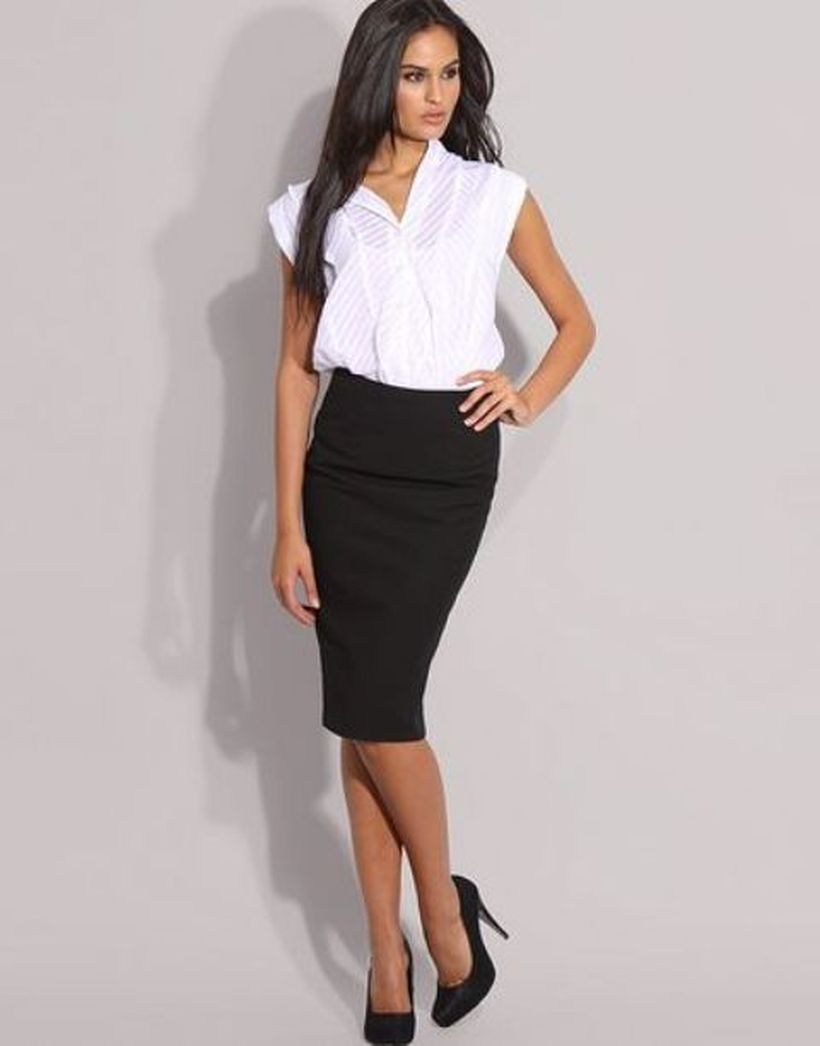F_tailored skirt: (299, 370, 521, 792)
